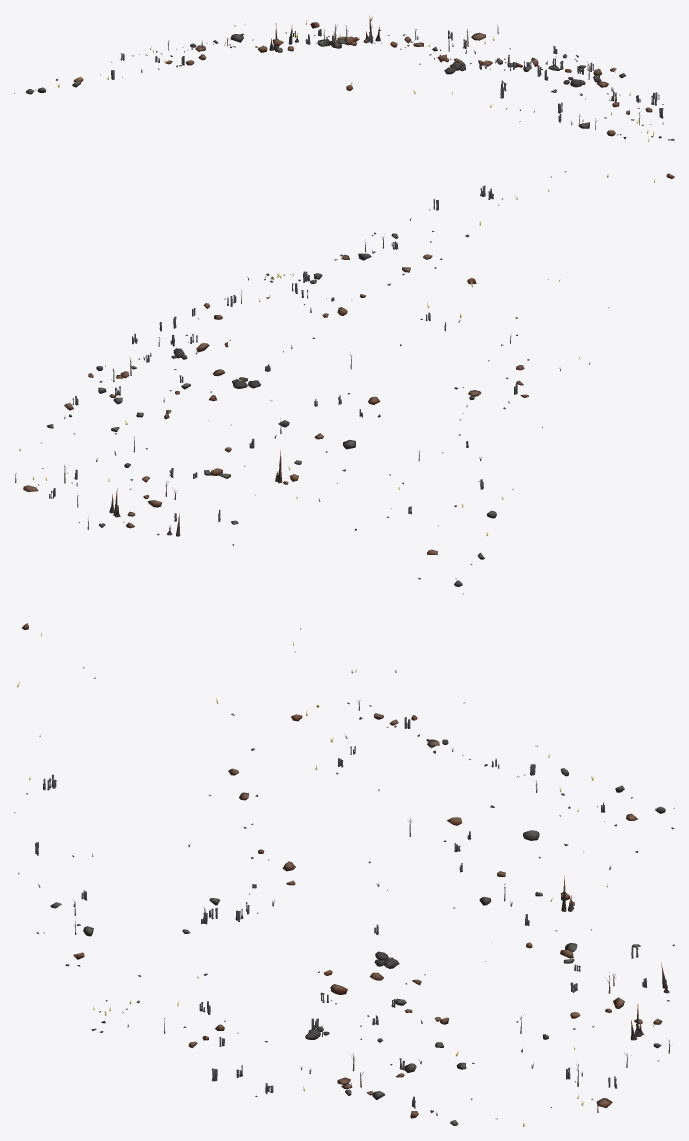
The model's file is ash_land_scatter_c21_28.glb.
3 renders of one model, top to bottom at view 1: azimuth 30°, elevation 25°; view 2: azimuth 150°, elevation 25°; view 3: azimuth 270°, elevation 25°, orthographic. The views are drawn at different scales.
Parts seen in each view (by area): view 1: ash_land_scatter_c21_28; view 2: ash_land_scatter_c21_28; view 3: ash_land_scatter_c21_28.
Boxes of the visible parts, x1,y1,x2,y2 form: ash_land_scatter_c21_28: (14, 15, 674, 141); ash_land_scatter_c21_28: (15, 171, 674, 594); ash_land_scatter_c21_28: (14, 623, 674, 1126).
Bounding box in the file's own units: 257 × 111 × 250.
